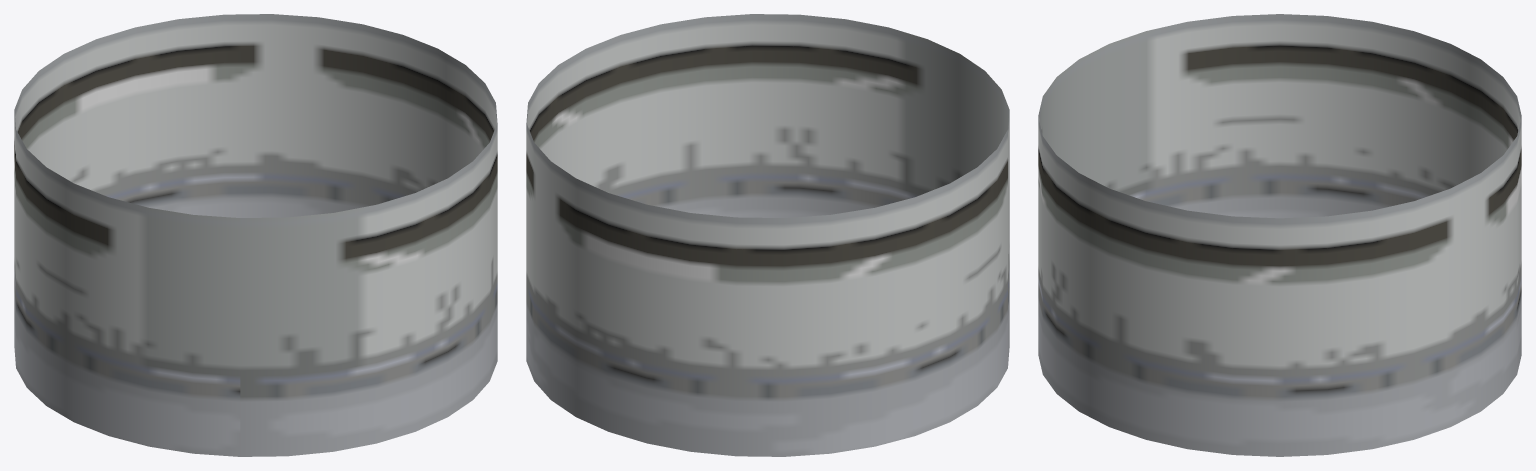
The model's file is Kitchen Arena.fbx.
The picture shows the model from 3 angles, left to right: view 1: azimuth 30°, elevation 25°; view 2: azimuth 150°, elevation 25°; view 3: azimuth 270°, elevation 25°; orthographic projection.
Parts seen in each view (by area): view 1: Cylinder; view 2: Cylinder; view 3: Cylinder.
Boxes of the visible parts, left/top/right/bottom form: Cylinder: left=14, top=14, right=497, bottom=456; Cylinder: left=526, top=14, right=1009, bottom=456; Cylinder: left=1038, top=14, right=1521, bottom=456.
Bounding box in the file's own units: 5774 × 3144 × 5774.
2 materials, 2 textured.
